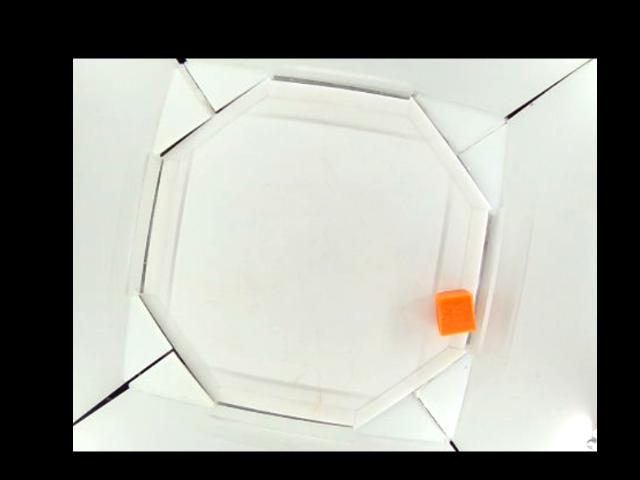Carrot: (433, 290, 479, 336)
